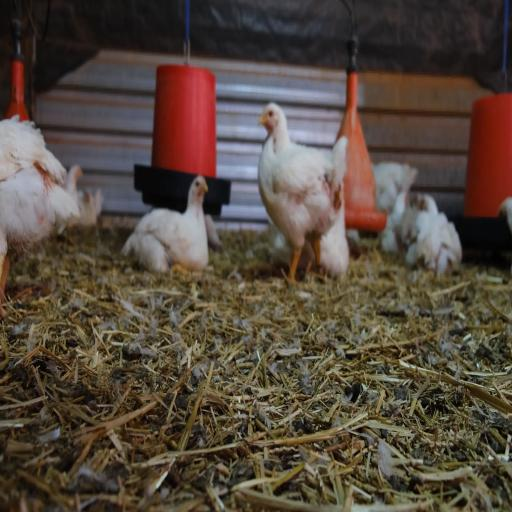healthy: (262, 92, 282, 136)
